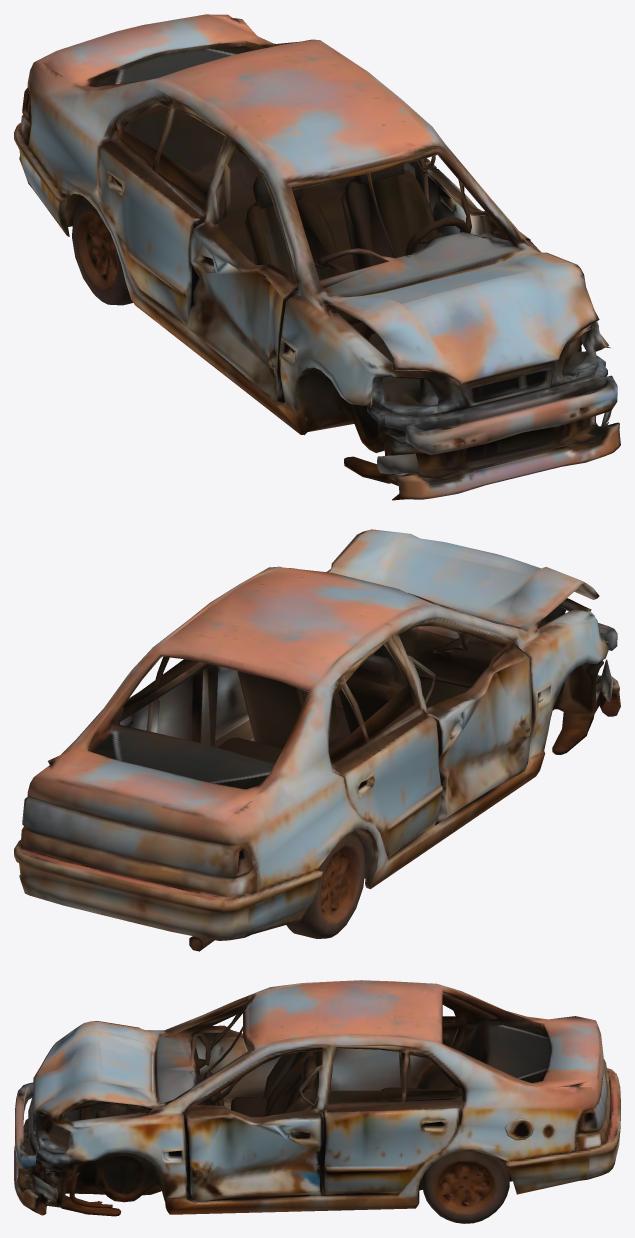
Rendered from rusty_crashed_car_15ba74d2_v3.glb.
3 renders of one model, top to bottom at view 1: azimuth 30°, elevation 25°; view 2: azimuth 150°, elevation 25°; view 3: azimuth 270°, elevation 25°, orthographic. The views are drawn at different scales.
Parts seen in each view (by area): view 1: material; view 2: material; view 3: material.
Boxes of the visible parts, <box> form: material: <box>14,14,620,500</box>; material: <box>14,529,620,951</box>; material: <box>14,980,620,1223</box>.
Bounding box in the file's own units: 0.7128 × 0.615 × 1.9.
1 material, 1 textured.
